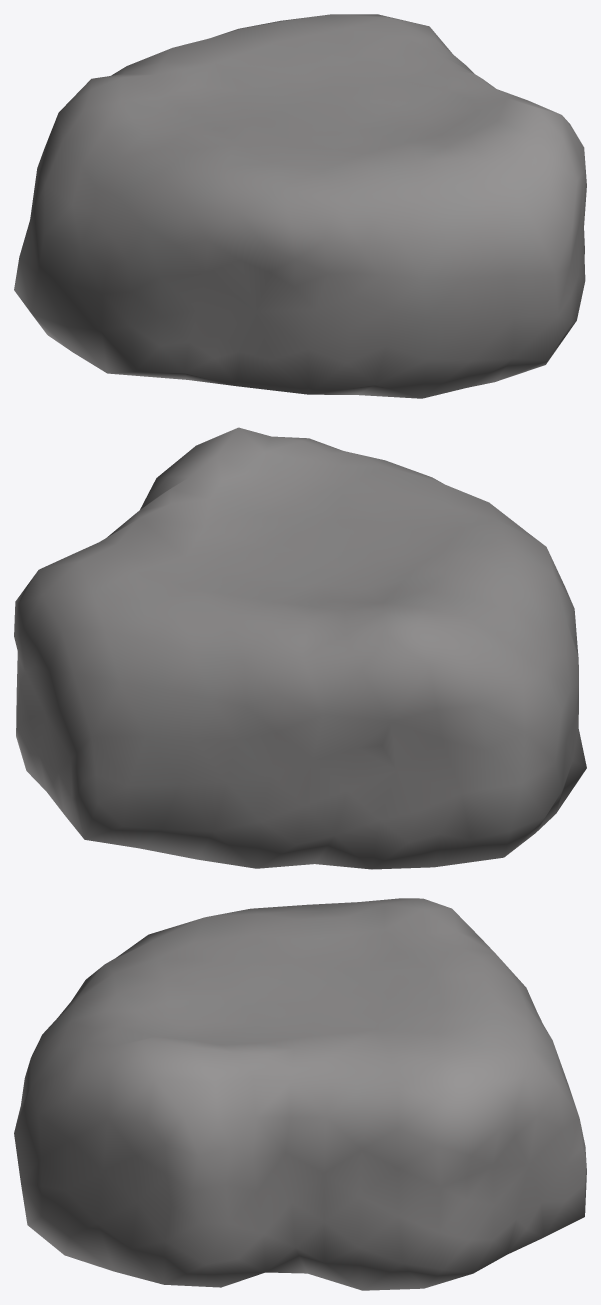
Rendered from Rocks3.fbx.
3 views of the same model, one above another, from view 1: azimuth 30°, elevation 25°; view 2: azimuth 150°, elevation 25°; view 3: azimuth 270°, elevation 25° (orthographic). The views are drawn at different scales.
Parts seen in each view (by area): view 1: AR04; view 2: AR04; view 3: AR04.
Boxes of the visible parts, x1,y1,x2,y2 form: AR04: (14,14,586,398); AR04: (14,427,586,869); AR04: (14,898,586,1290).
Bounding box in the file's own units: 167 × 77.95 × 174.
